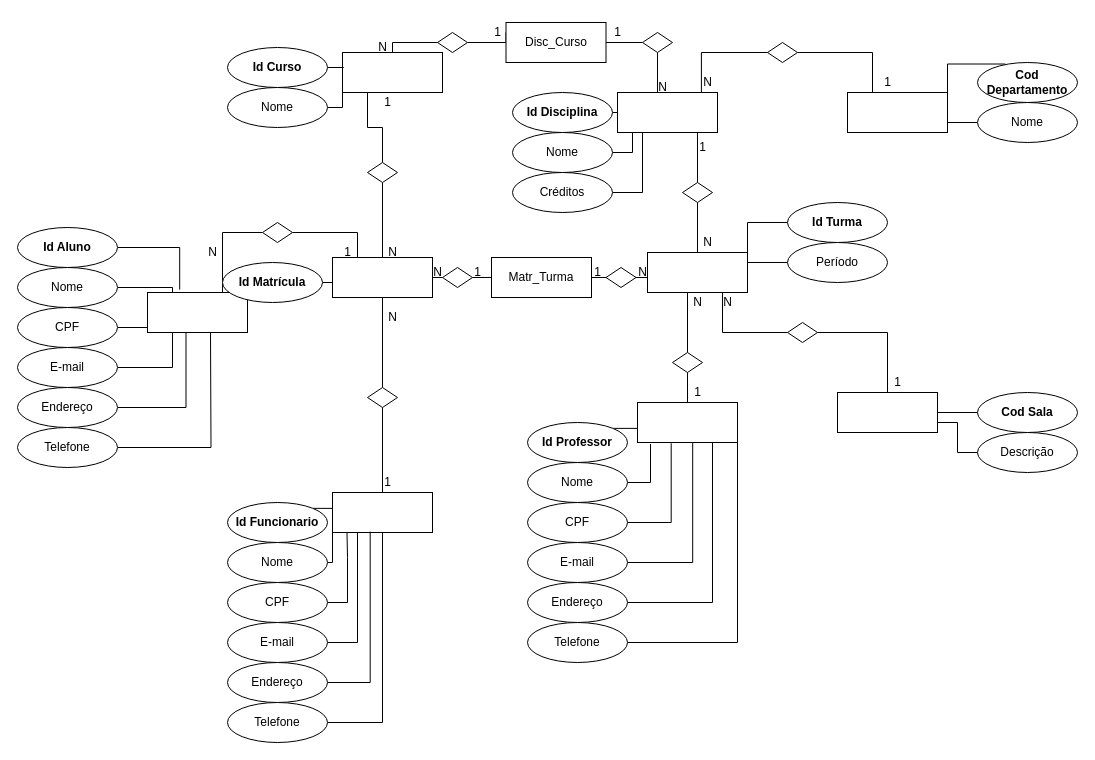
This 1095x760 diagram has some shape labels left out. Here are the shapes that lost their labels. From the top down, the box of each, then its label:
(342, 52, 442, 92): Curso
(616, 92, 718, 132): Disciplina
(846, 92, 948, 132): Departamento
(332, 256, 432, 298): Matricula
(646, 252, 748, 292): Turma
(146, 292, 248, 332): Aluno
(636, 402, 738, 442): Professor
(836, 392, 938, 432): Sala
(332, 492, 432, 532): Funcionario
